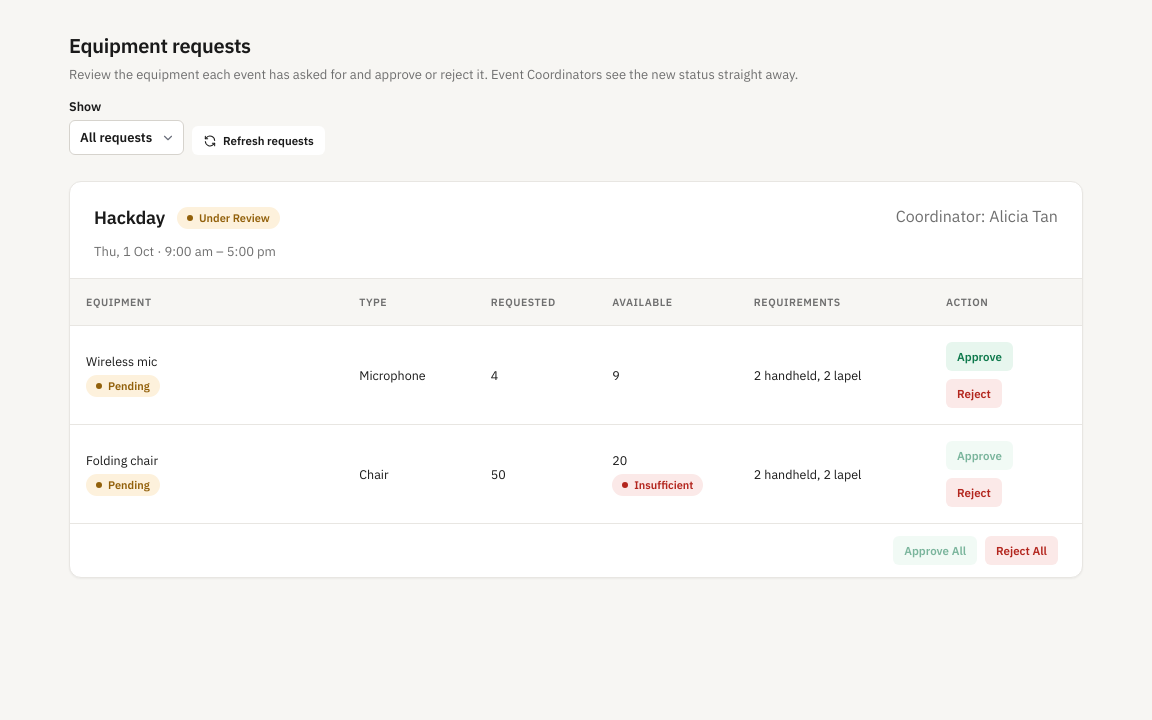
Test: batch Approve is enabled again once the insufficient line has been rejected
The width and height of the screenshot is (1152, 720).
Expected: the text "Folding chair" is shown, left=86, top=452, right=158, bottom=468
Expected: the button "Approve All" is disabled, left=893, top=536, right=977, bottom=565
Step 1. Click the button "Reject" in the row of "50" → (974, 492), box left=946, top=478, right=1002, bottom=507
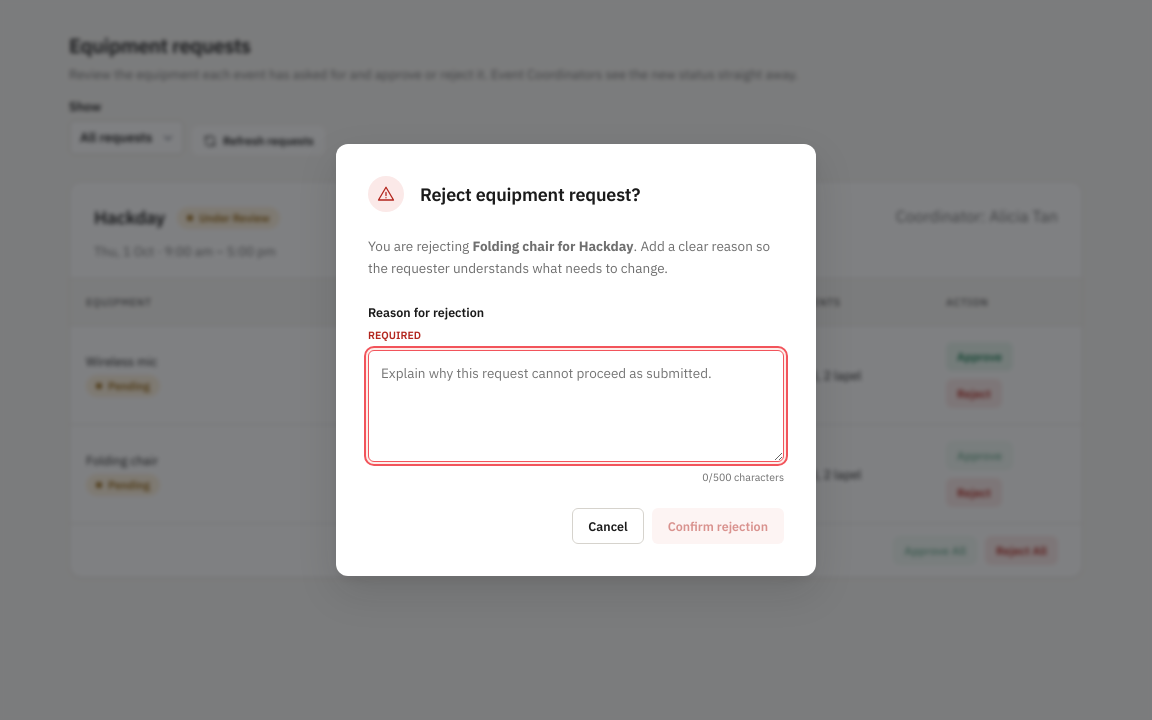
Step 2. Type "Insufficient stock." into the text box labelled "Reason for rejection Required 0/500 characters" → (576, 406), box left=368, top=350, right=784, bottom=462
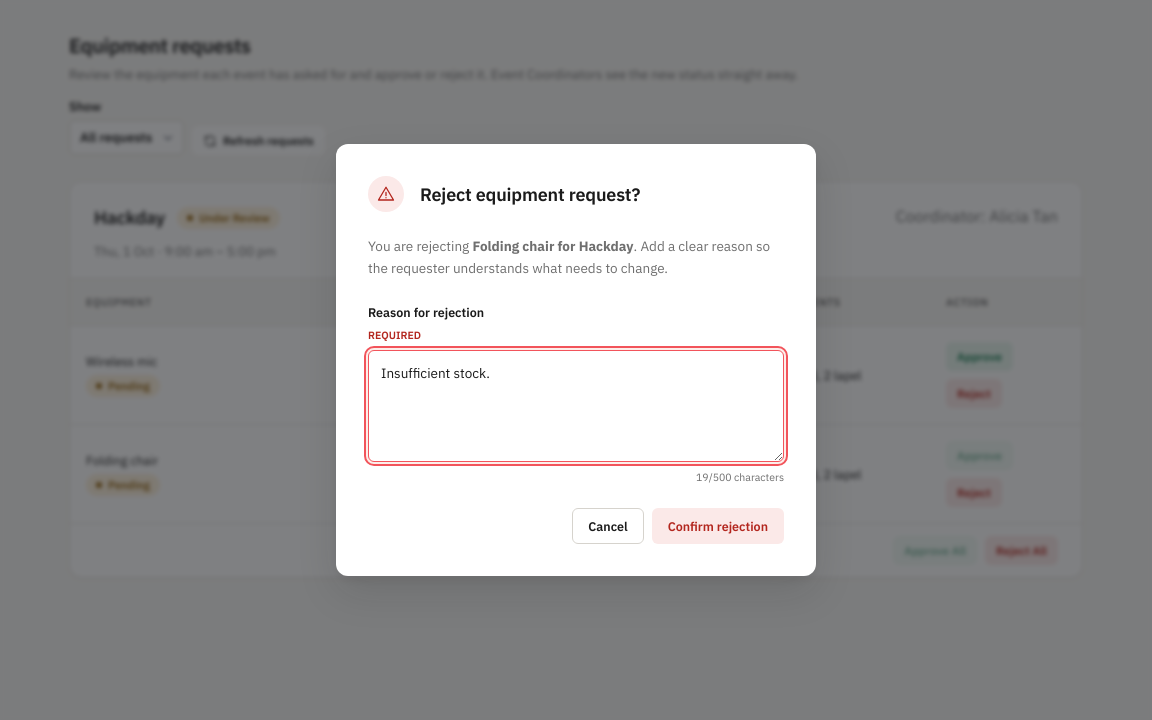
Step 3. Click the button "Confirm rejection" → (718, 526), box left=652, top=508, right=784, bottom=544
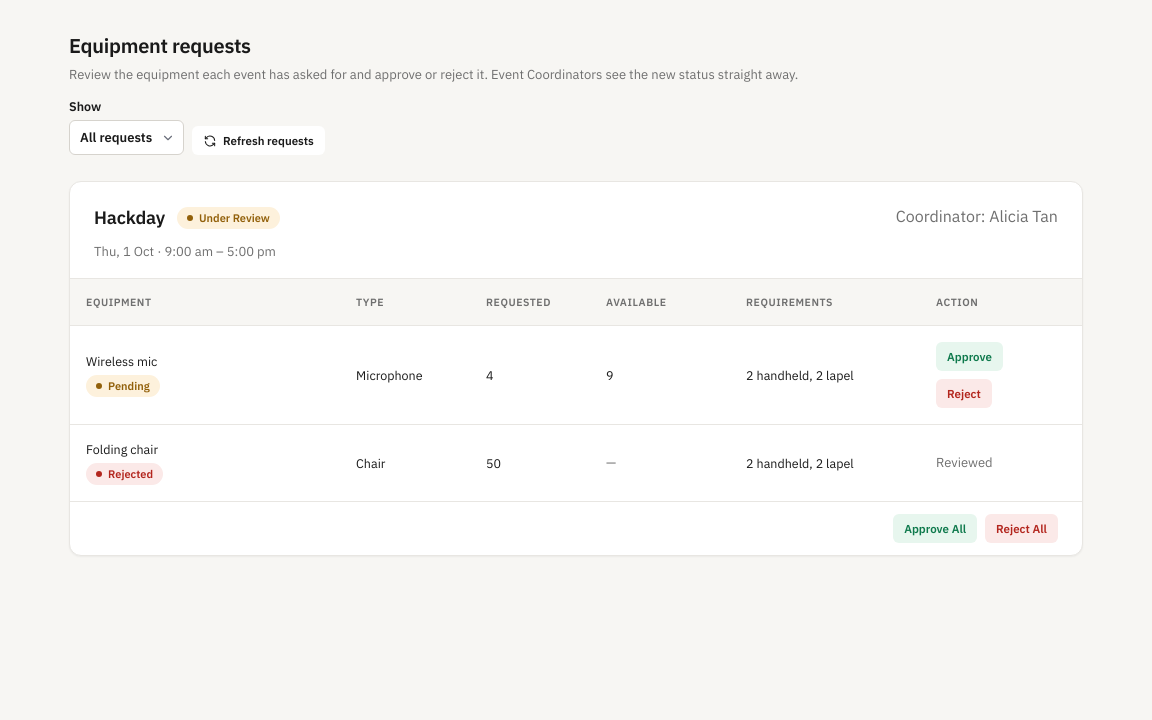
Expected: the text "Folding chair" is shown, left=86, top=441, right=158, bottom=457
Now the text "Rejected" is shown, box left=86, top=463, right=163, bottom=485
Now the button "Approve All" is enabled, box left=893, top=514, right=977, bottom=543
